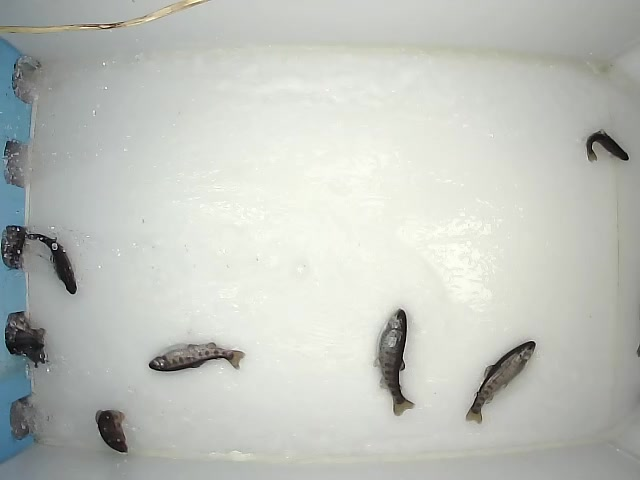fish: (464, 340, 537, 426), (372, 306, 416, 417), (26, 232, 79, 296), (147, 340, 246, 371), (584, 128, 631, 165), (94, 408, 130, 454)
